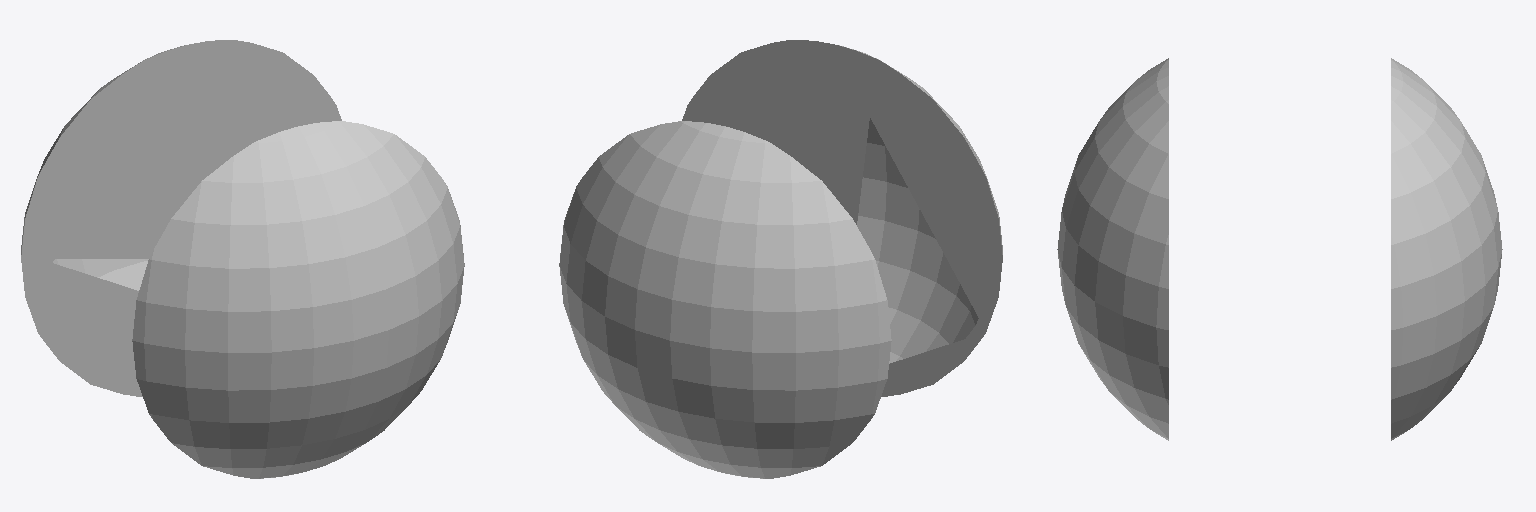
File: ChaosBivalv.obj
The picture shows the model from 3 angles: view 1: azimuth 30°, elevation 25°; view 2: azimuth 150°, elevation 25°; view 3: azimuth 270°, elevation 25°; orthographic projection.
Visible parts, largest first — view 1: Sphere; view 2: Sphere; view 3: Sphere.
Boxes of the visible parts, <box> form: Sphere: <box>21,40,464,478</box>; Sphere: <box>559,40,1002,478</box>; Sphere: <box>1057,58,1502,440</box>.
Size of the model in its own units: 1.86 by 1.72 by 2.